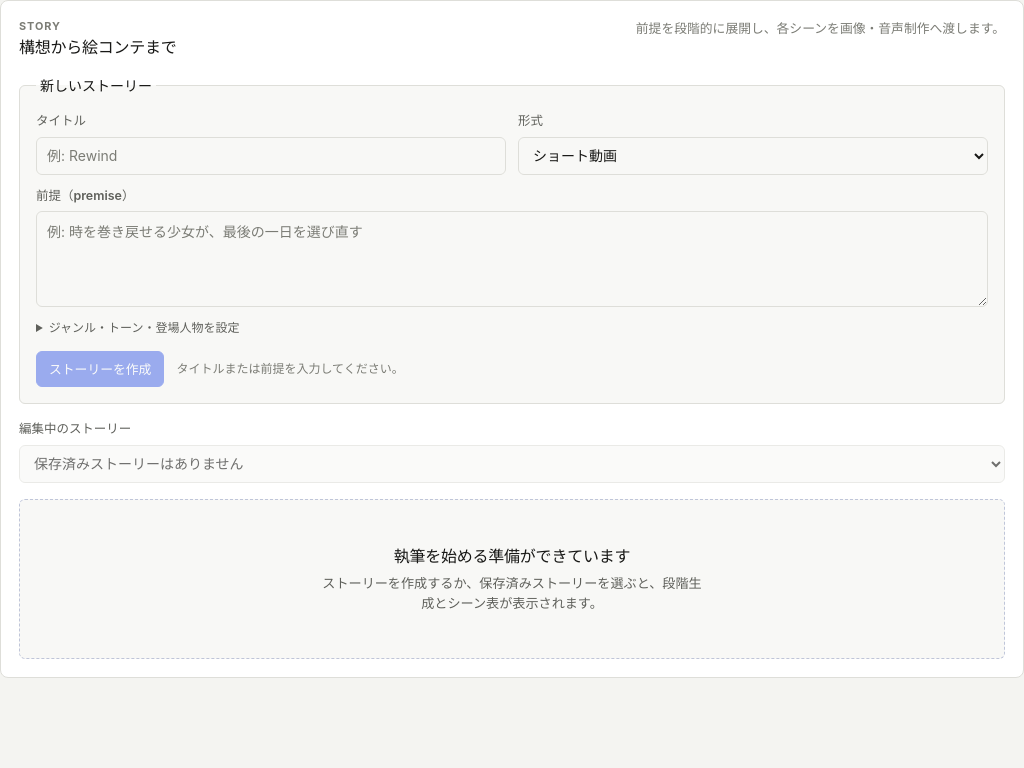
it: StoryPanel › keeps the create action disabled until there is something to write about
Check: the button "ストーリーを作成" is disabled, box [36,351,164,387]
Type "時を巻き戻す少女" into the text box labelled "前提（premise）". click: (512, 259)
box: [36,211,988,307]
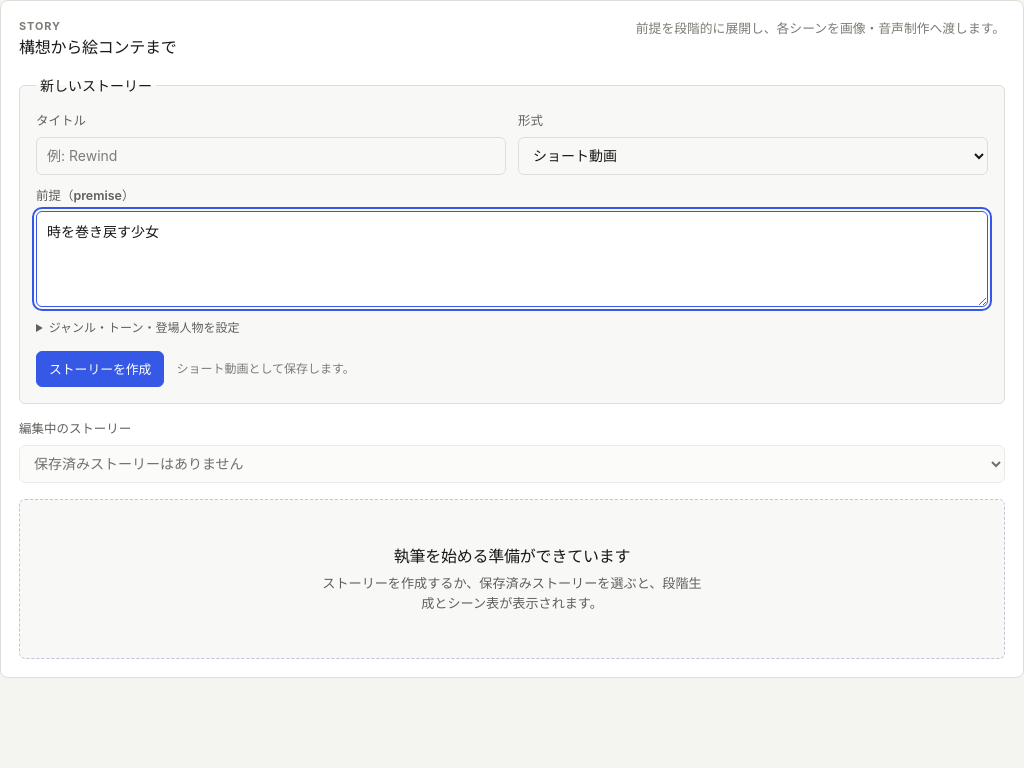
Check: the button "ストーリーを作成" is enabled, box [36,351,164,387]
